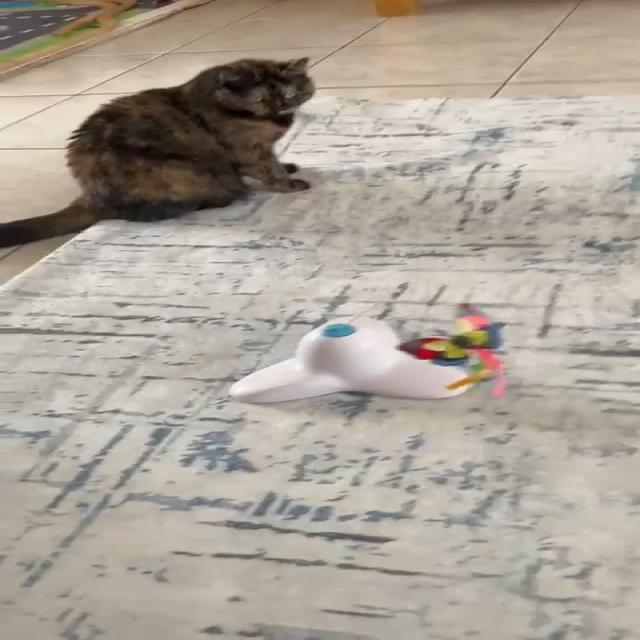authorized: (0, 55, 316, 248)
